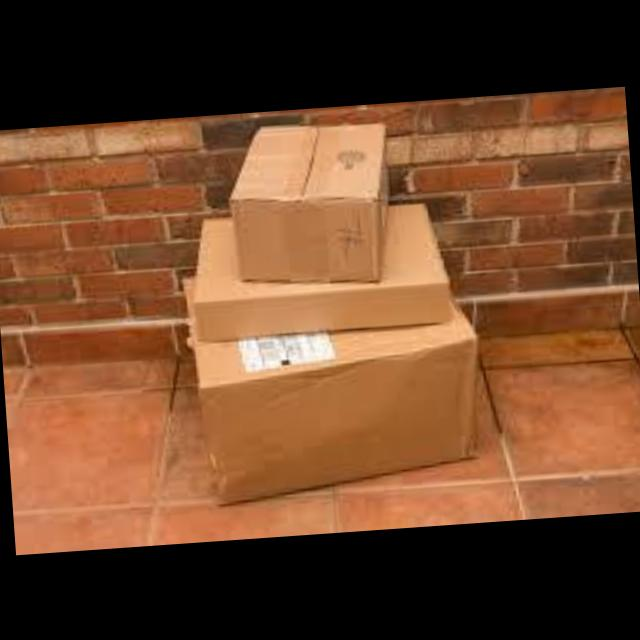box: (184, 310, 492, 506), (188, 202, 450, 341), (224, 115, 398, 292)
